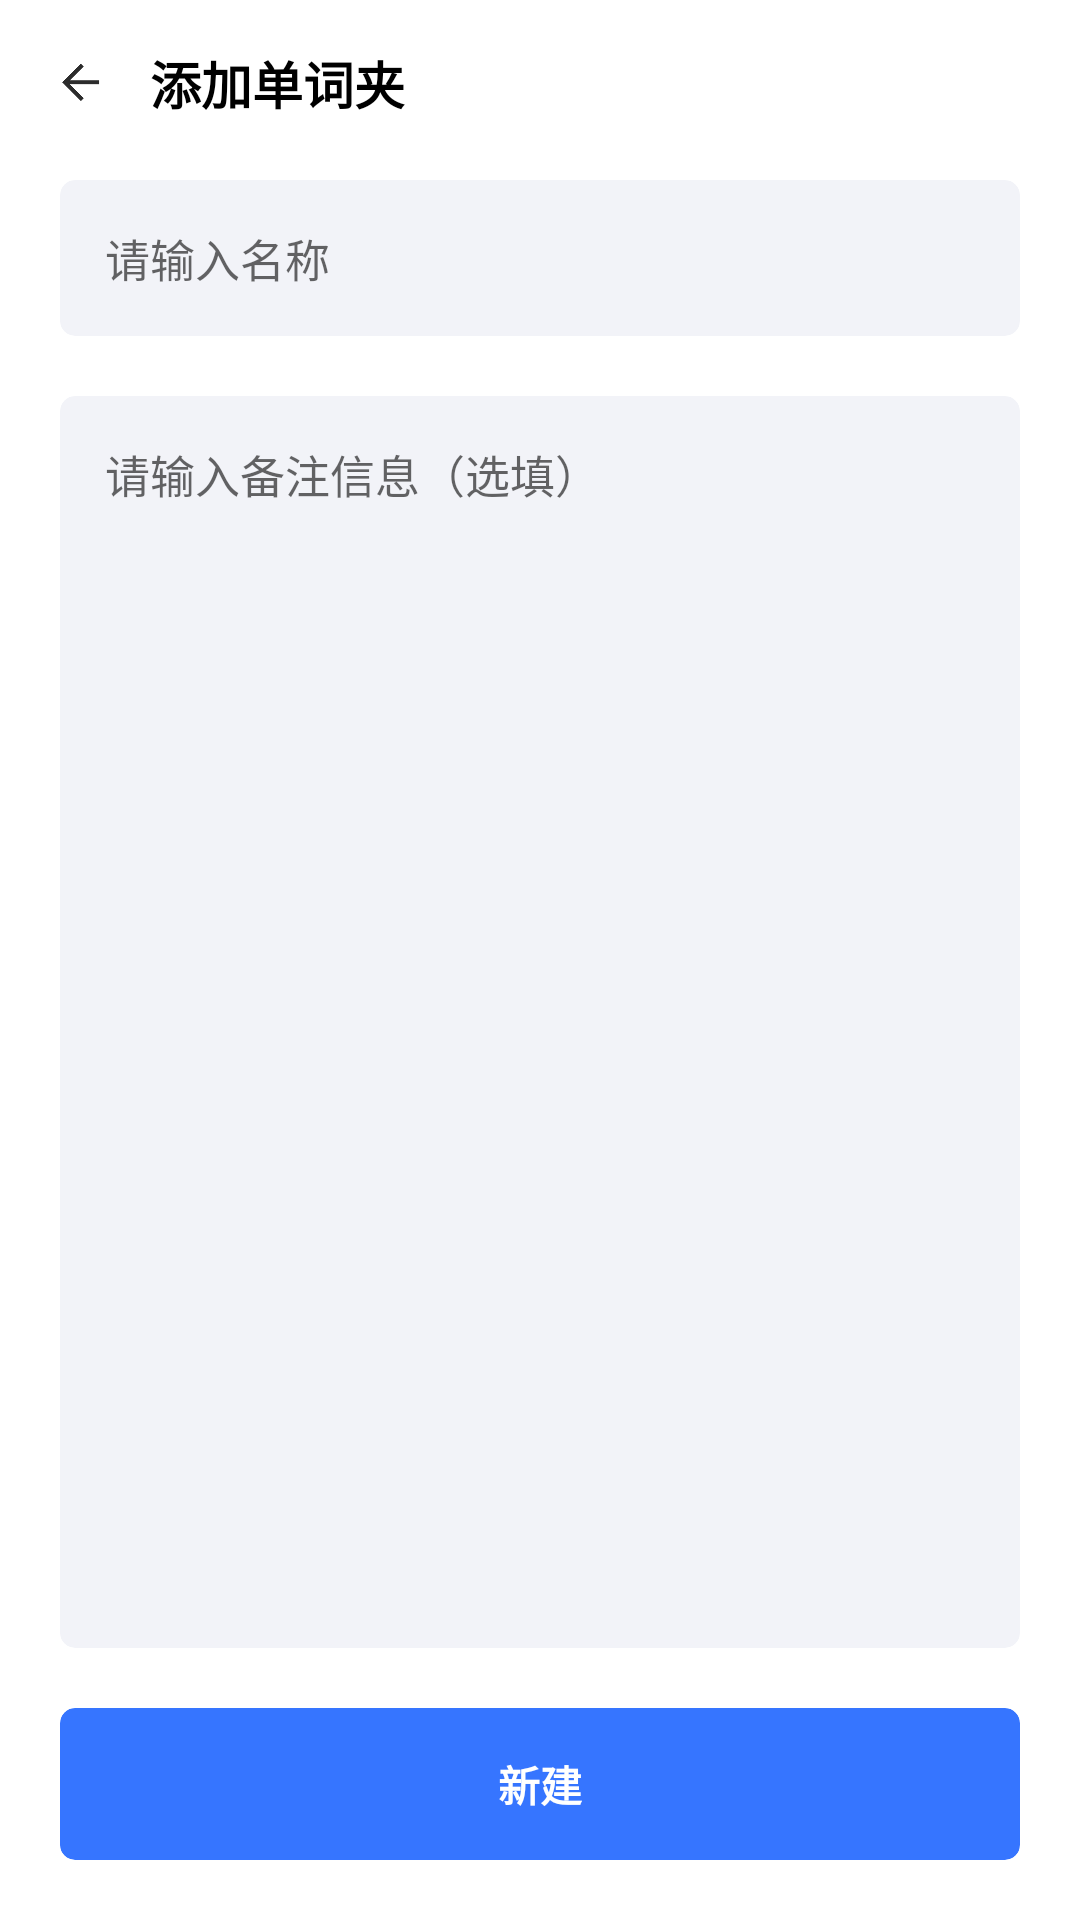

Locate icon controls on the screen. Image size 1080 x 1920, boxes as (x1, y1, x2, y2).
left: (62, 64, 99, 101)
